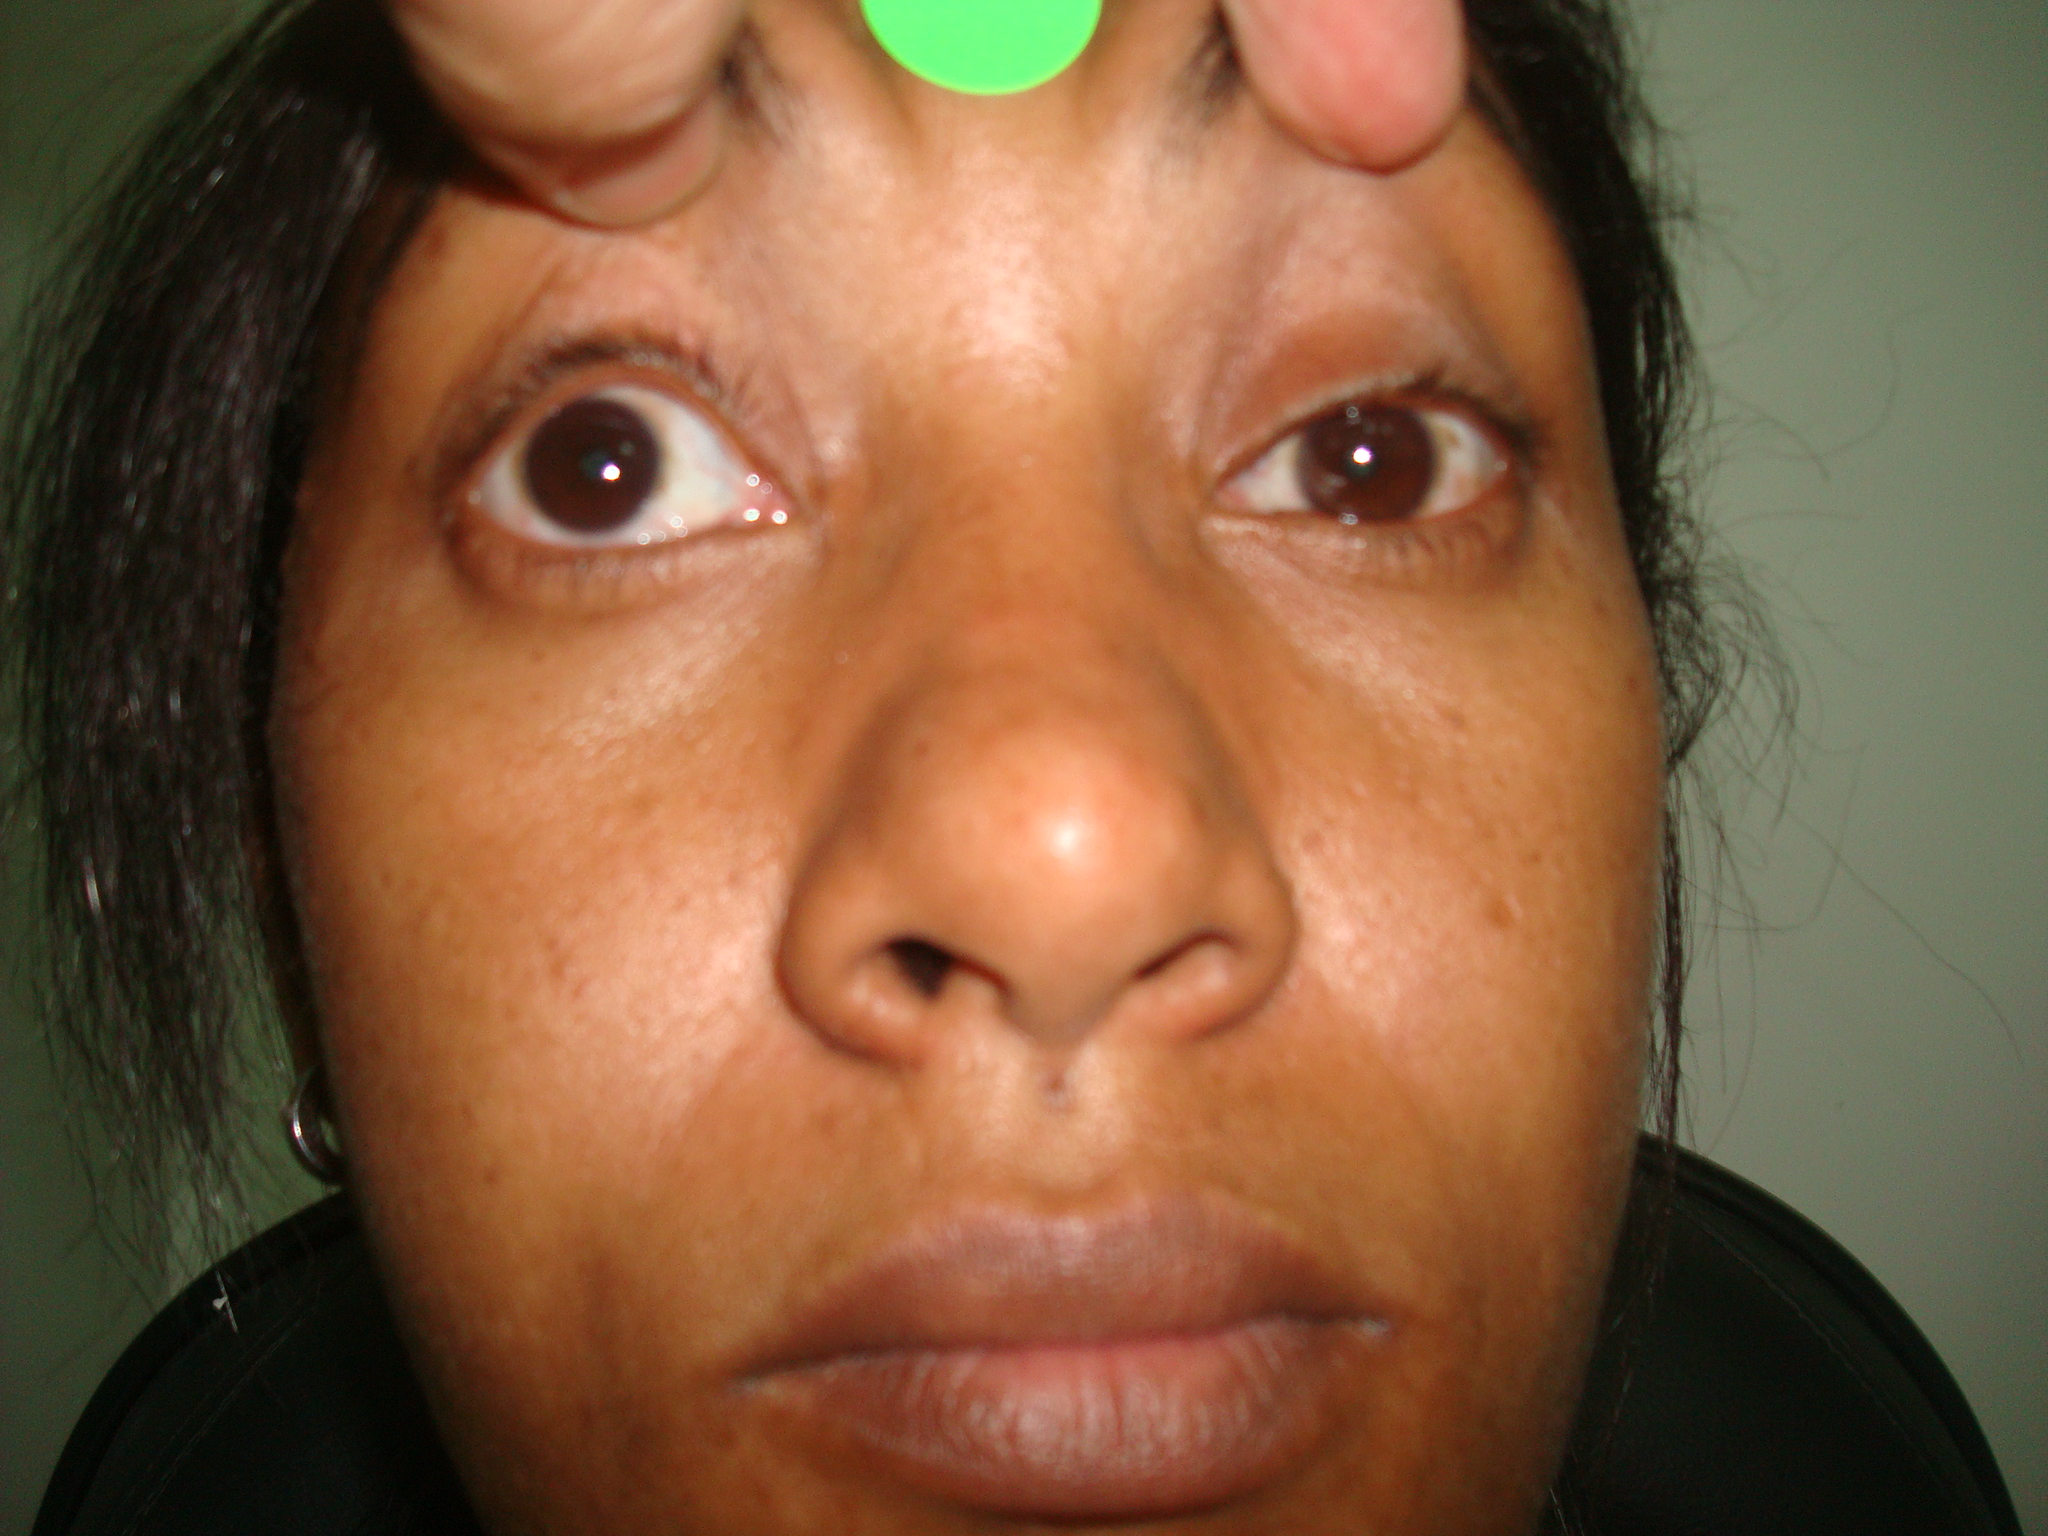flash: (598, 458, 626, 486), (1351, 445, 1372, 466)
limbo: (524, 390, 663, 532), (1300, 407, 1424, 520)
